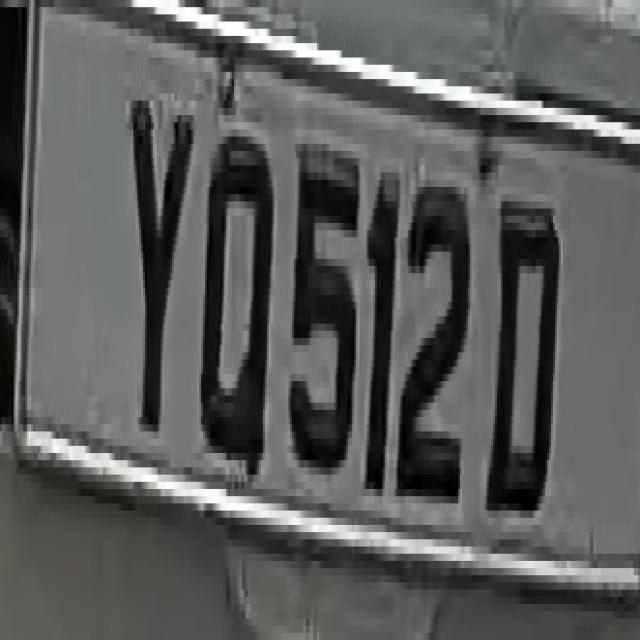1: (362, 122, 396, 554)
2: (396, 144, 472, 532)
5: (286, 115, 358, 496)
D: (485, 180, 565, 532)
Q: (198, 94, 282, 504)
Y: (122, 51, 197, 460)
